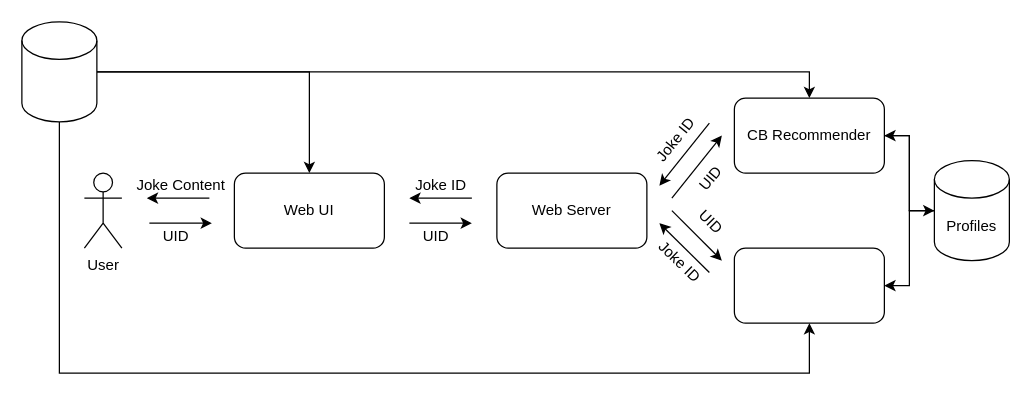
The diagram is 1031 pixels wide and 405 high, and some of its shapes have lost their labels. Each missing label, with the centre of its shape:
"Jokes" belongs at point 59,71.
"SVD Recommender" belongs at point 808,285.
